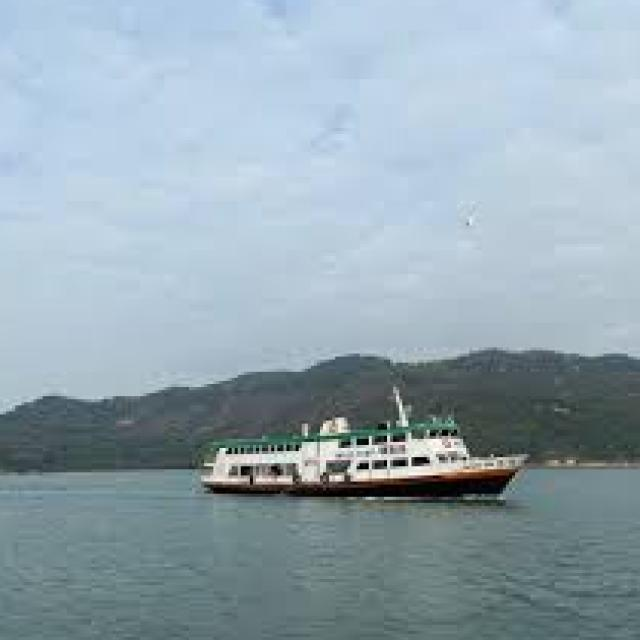houseboat: (195, 391, 531, 507)
